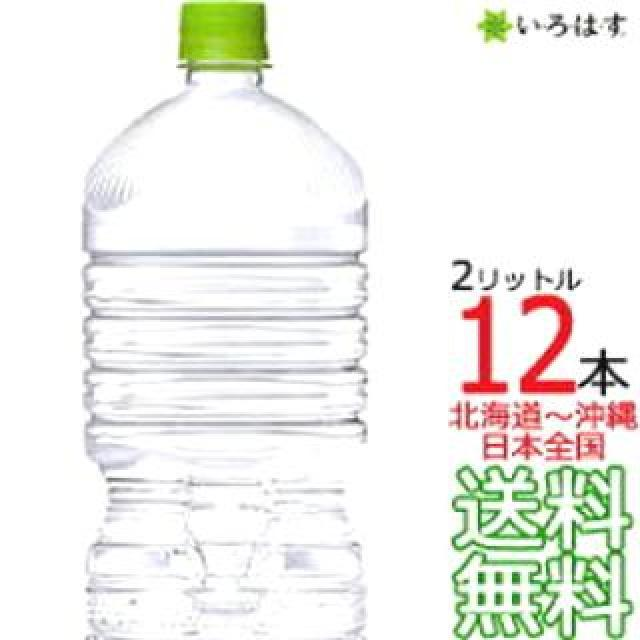Pet_Bottle: (77, 0, 365, 634)
